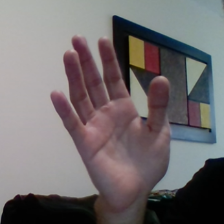left: (41, 31, 190, 208)
